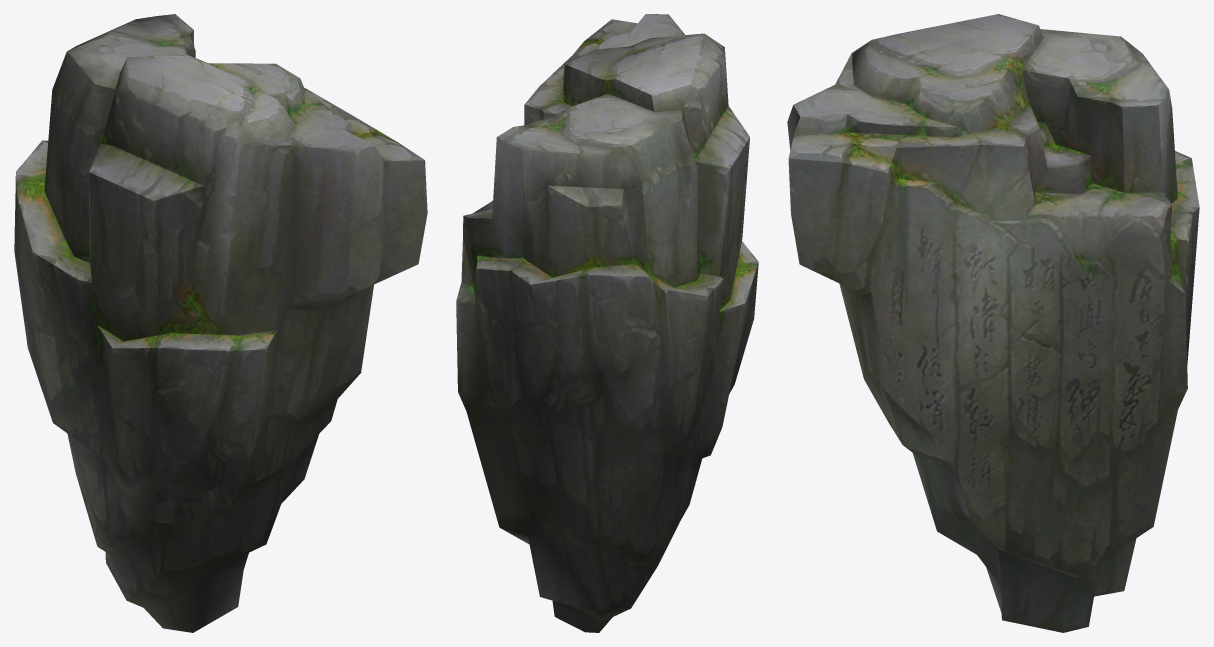
Rendered from wlf_shanshi03_w.FBX.
The picture shows the model from 3 angles, left to right: view 1: azimuth 30°, elevation 25°; view 2: azimuth 150°, elevation 25°; view 3: azimuth 270°, elevation 25°; orthographic projection. The views are drawn at different scales.
Visible parts, largest first — view 1: wlf_shanshi03_w; view 2: wlf_shanshi03_w; view 3: wlf_shanshi03_w.
Part boxes in pixels (<box>): wlf_shanshi03_w: <box>14,14,427,632</box>; wlf_shanshi03_w: <box>456,14,758,632</box>; wlf_shanshi03_w: <box>787,14,1199,632</box>.
Size of the model in its own units: 152 by 339 by 217.
